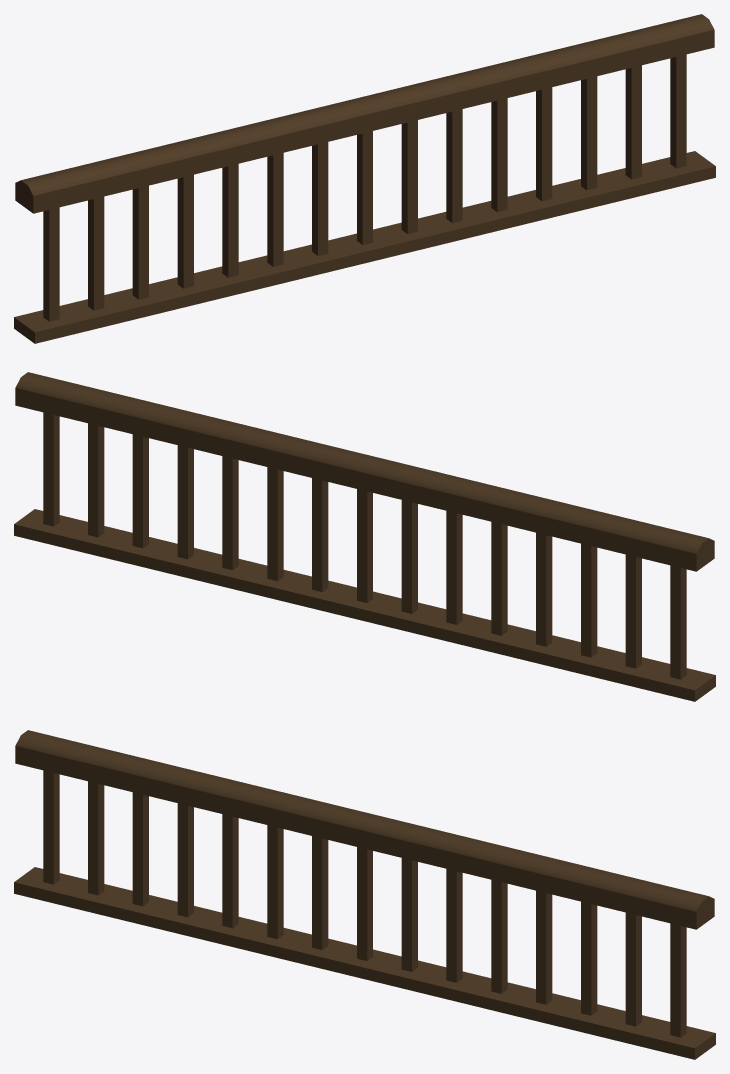
The model's file is ladder.gltf.
The picture shows the model from 3 angles, top to bottom: view 1: azimuth 30°, elevation 25°; view 2: azimuth 150°, elevation 25°; view 3: azimuth 330°, elevation 25°; orthographic projection.
Visible parts, largest first — view 1: Balcony_Railing; view 2: Balcony_Railing; view 3: Balcony_Railing.
Boxes of the visible parts, x1,y1,x2,y2 form: Balcony_Railing: (14,14,715,343); Balcony_Railing: (14,372,715,701); Balcony_Railing: (14,730,715,1059).
Bounding box in the file's own units: 3.8 × 0.8179 × 0.2018.
Materials: 1 (1 with a texture image).
